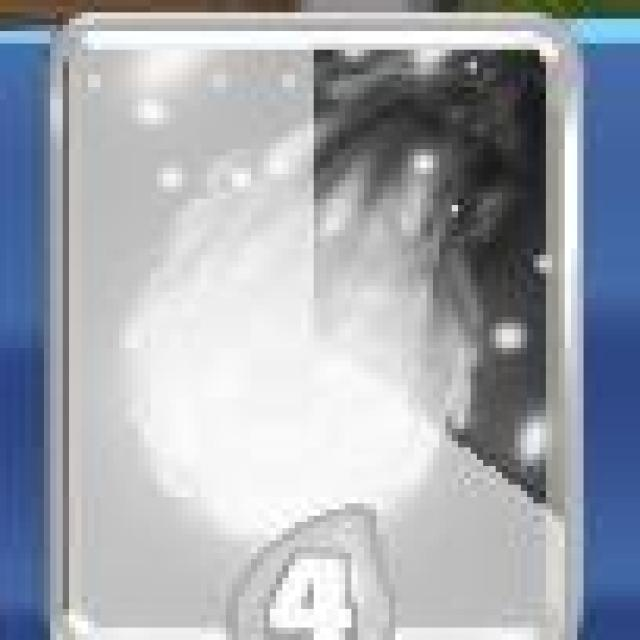Fireball: (52, 10, 581, 640)
